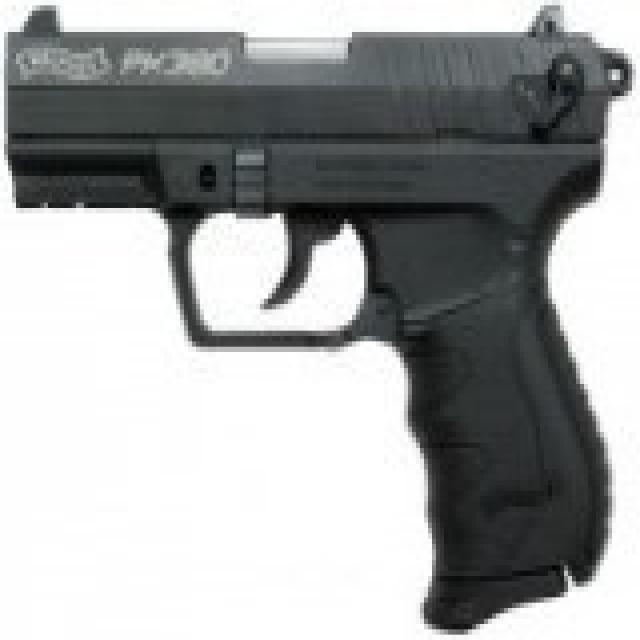Gun: (6, 2, 612, 570)
